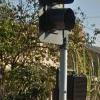Traffic light: (31, 13, 84, 50)
